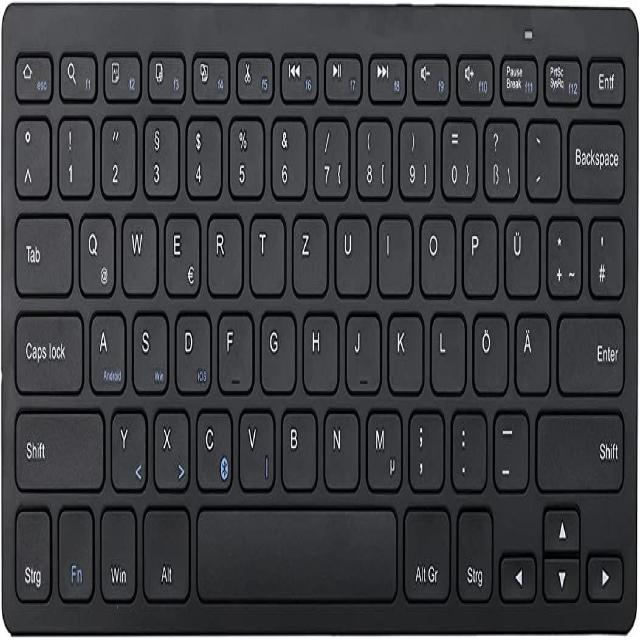0: (439, 114, 476, 198)
1: (55, 113, 93, 197)
2: (99, 112, 136, 195)
3: (141, 114, 178, 196)
4: (184, 113, 221, 197)
5: (226, 113, 264, 197)
6: (269, 114, 306, 196)
7: (312, 114, 349, 198)
8: (354, 115, 391, 198)
9: (396, 114, 434, 198)
a: (87, 306, 126, 391)
accent: (524, 115, 560, 198)
ae: (513, 309, 550, 393)
alt-left: (141, 502, 191, 602)
altgr-right: (401, 502, 451, 603)
b: (278, 406, 316, 487)
c: (193, 406, 232, 490)
caret: (13, 113, 49, 197)
comma: (406, 407, 443, 488)
d: (173, 309, 210, 393)
del: (565, 115, 626, 199)
e: (162, 212, 200, 294)
enter: (556, 309, 626, 394)
f: (215, 309, 252, 391)
g: (258, 307, 295, 391)
h: (301, 309, 338, 391)
hash: (587, 214, 624, 298)
i: (375, 212, 411, 294)
j: (344, 307, 380, 391)
k: (386, 307, 422, 391)
keyboard: (1, 0, 636, 633)
l: (429, 309, 465, 393)
m: (363, 406, 402, 490)
minus: (491, 410, 528, 488)
n: (322, 405, 359, 488)
o: (417, 212, 455, 294)
oe: (471, 309, 508, 391)
p: (460, 212, 497, 294)
plus: (545, 213, 581, 296)
point: (449, 408, 486, 488)
q: (76, 210, 115, 293)
r: (205, 212, 242, 294)
s: (130, 307, 167, 391)
shift-left: (11, 405, 104, 491)
shift-lock: (12, 307, 83, 393)
shift-right: (534, 405, 625, 491)
space: (195, 499, 397, 602)
ss: (481, 115, 518, 198)
strg-left: (12, 502, 51, 604)
strg-right: (455, 505, 494, 604)
t: (248, 211, 284, 295)
tab: (12, 211, 72, 295)
u: (333, 211, 370, 295)
ue: (502, 212, 539, 296)
v: (237, 405, 274, 488)
w: (119, 210, 157, 293)
x: (151, 406, 189, 490)
y: (109, 407, 146, 488)
z: (290, 211, 328, 295)
